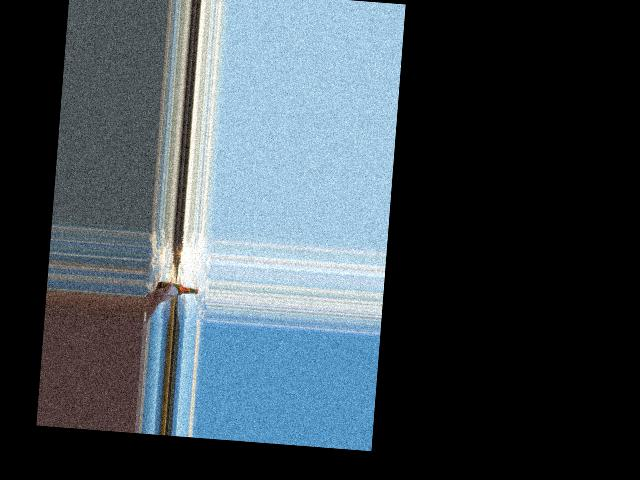beer: (158, 280, 198, 296)
